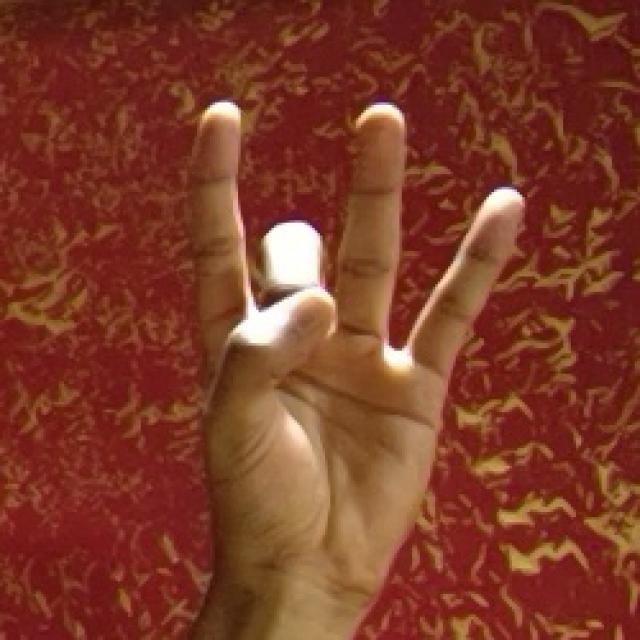Numeric-8: (183, 97, 521, 591)
